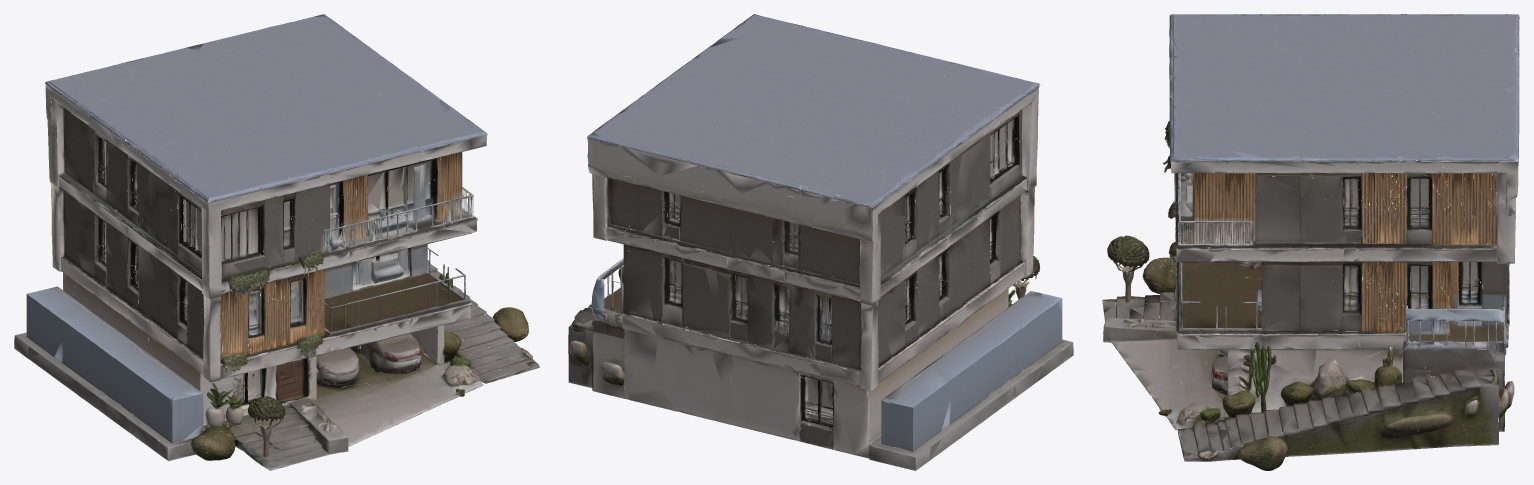
Rendered from villa-low.glb.
The picture shows the model from 3 angles, left to right: view 1: azimuth 30°, elevation 25°; view 2: azimuth 150°, elevation 25°; view 3: azimuth 270°, elevation 25°; orthographic projection. The views are drawn at different scales.
Visible parts, largest first — view 1: tripo_node_a36ba9fc-8e07-4728-a48a-93393bd6e08b; view 2: tripo_node_a36ba9fc-8e07-4728-a48a-93393bd6e08b; view 3: tripo_node_a36ba9fc-8e07-4728-a48a-93393bd6e08b.
Boxes of the visible parts, x1,y1,x2,y2 form: tripo_node_a36ba9fc-8e07-4728-a48a-93393bd6e08b: [14, 14, 539, 470]; tripo_node_a36ba9fc-8e07-4728-a48a-93393bd6e08b: [568, 14, 1073, 470]; tripo_node_a36ba9fc-8e07-4728-a48a-93393bd6e08b: [1102, 14, 1519, 470].
Bounding box in the file's own units: 0.98 × 0.5977 × 0.8298.
1 material, 1 textured.
